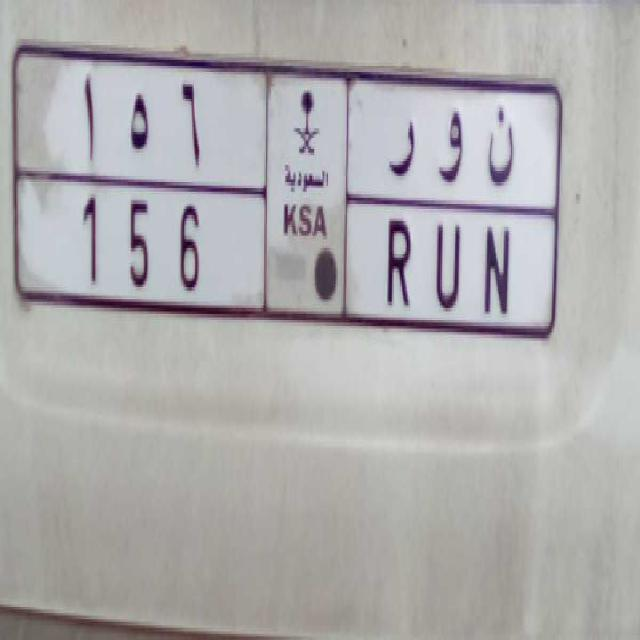license_plate: (44, 171, 535, 358)
